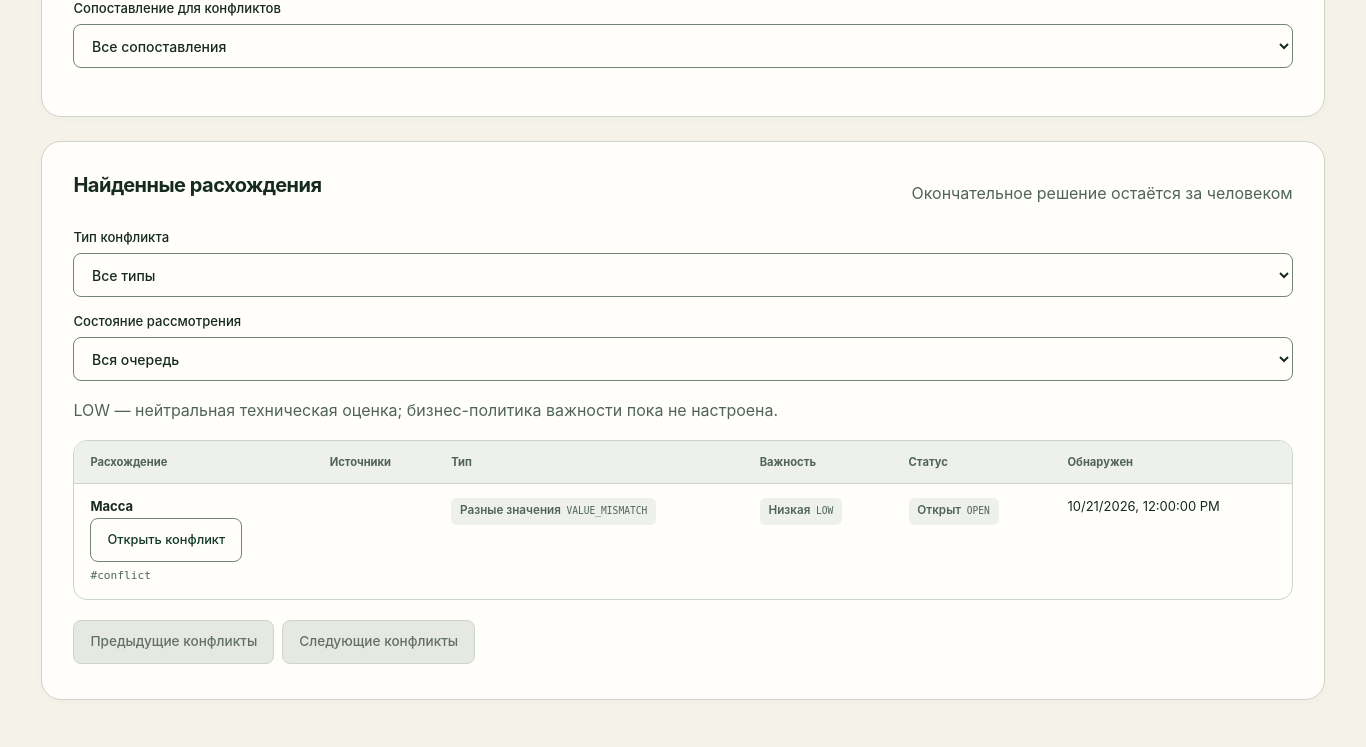
Test: marks results from a previous profile explicitly
The image size is (1366, 747).
(page scrolled)
Click the button "Открыть конфликт". click: {"x": 166, "y": 540}
box: [90,518,242,562]
(page scrolled)
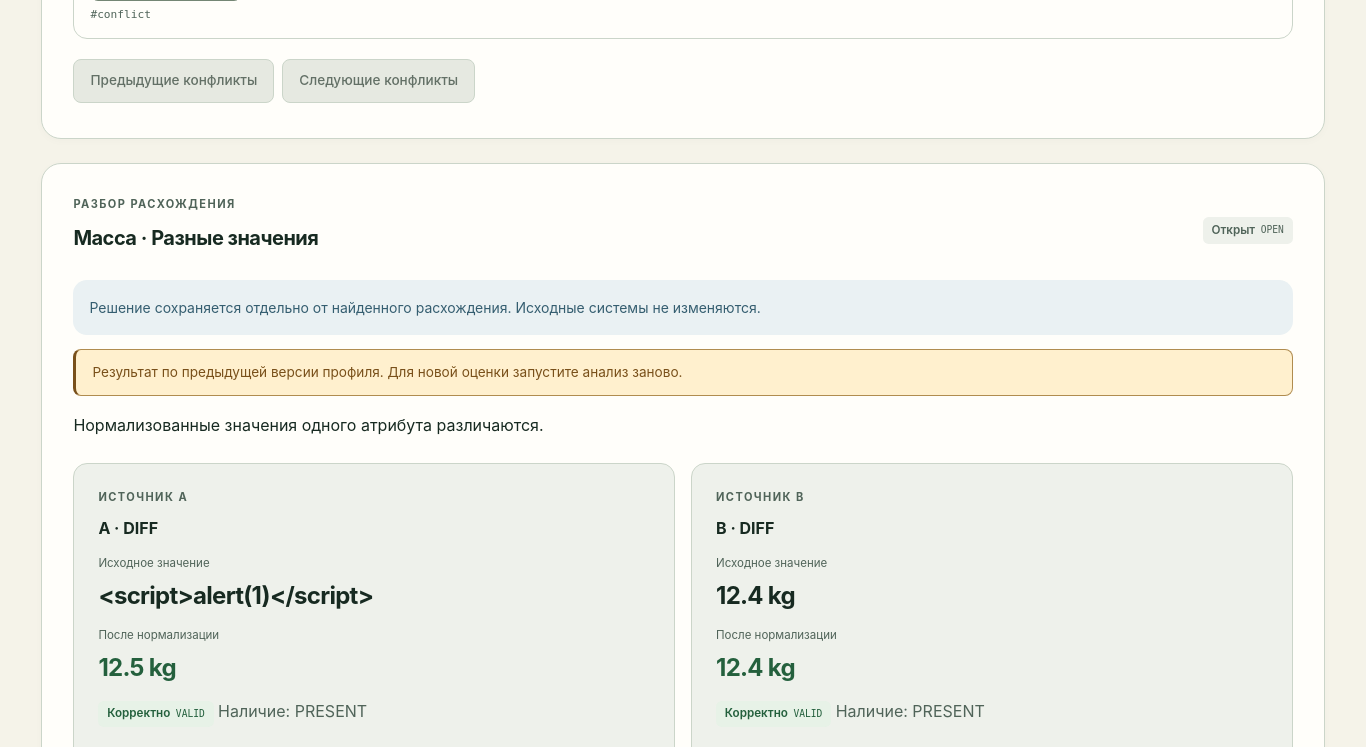
Result: the text "Результат по предыдущей версии профиля" is shown at [92,364,682,380]
